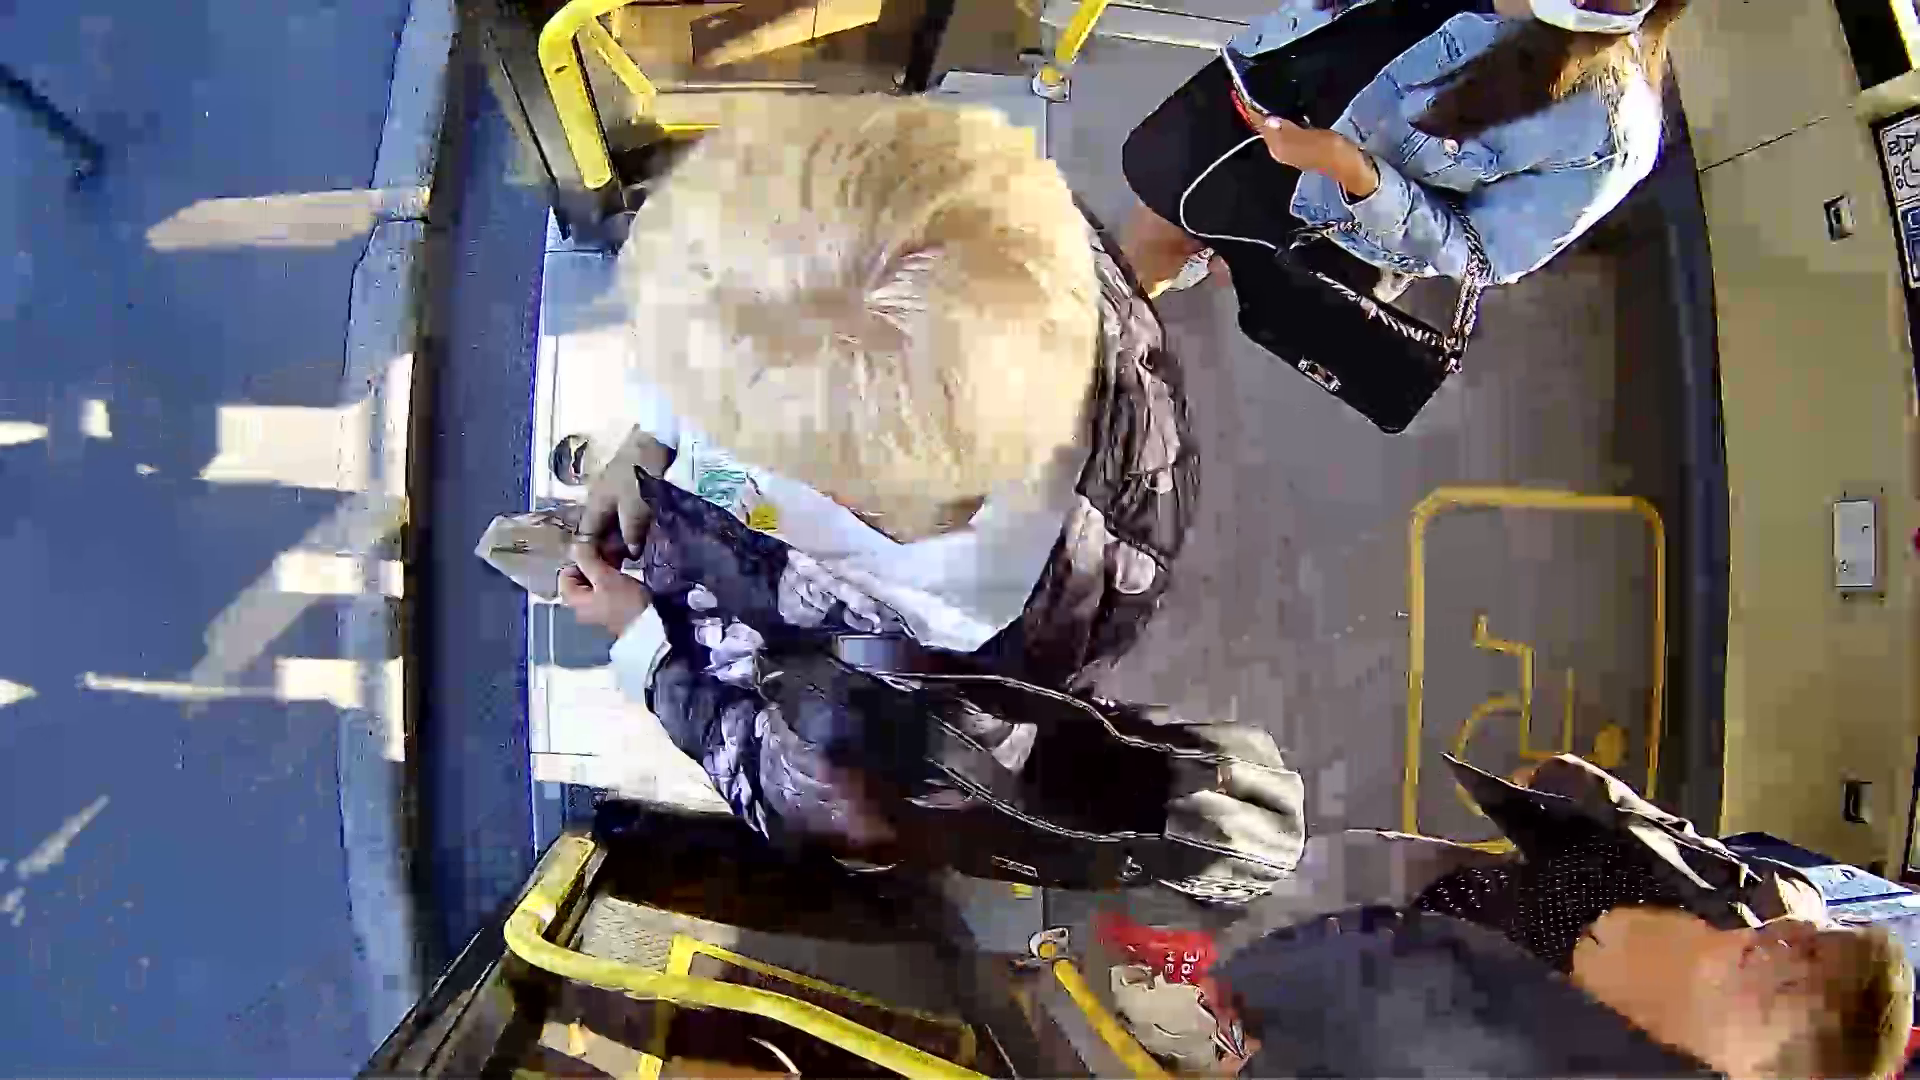person: (518, 103, 1295, 872)
